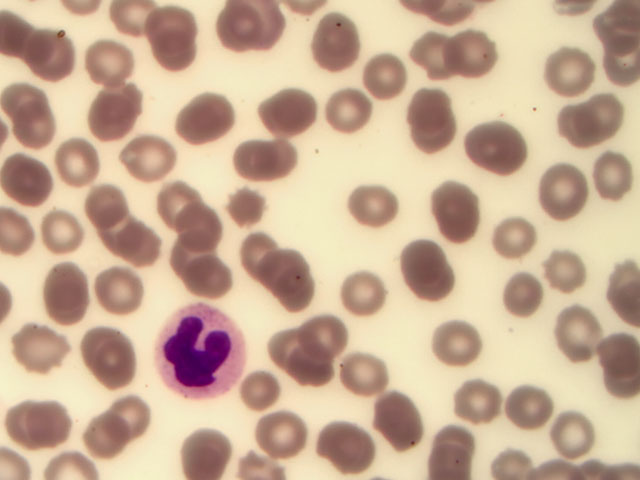RBC: (29, 27, 81, 79), (79, 30, 131, 82), (95, 97, 147, 149), (49, 127, 101, 179), (11, 104, 63, 156), (7, 75, 59, 127), (4, 154, 56, 206), (72, 170, 124, 222), (91, 203, 143, 255), (114, 219, 166, 271), (35, 206, 87, 258), (33, 268, 85, 320), (94, 263, 146, 315), (188, 256, 240, 308), (164, 239, 216, 291), (183, 209, 235, 261), (160, 177, 212, 229), (188, 99, 240, 151), (229, 130, 281, 182), (251, 130, 303, 182), (266, 80, 318, 132), (154, 35, 206, 87), (212, 6, 264, 58), (312, 20, 364, 72), (330, 86, 382, 138), (350, 49, 402, 101), (397, 74, 449, 126), (412, 105, 464, 157), (471, 121, 523, 173), (414, 33, 466, 85), (448, 27, 500, 79), (431, 175, 483, 227), (350, 183, 402, 235), (397, 225, 449, 277), (404, 253, 456, 305), (342, 271, 394, 323), (270, 273, 322, 325), (261, 242, 313, 294), (231, 231, 283, 283), (230, 178, 282, 230), (260, 321, 312, 373), (279, 344, 331, 396), (291, 303, 343, 355), (335, 346, 387, 398), (371, 390, 423, 442), (323, 418, 375, 470), (256, 409, 308, 461), (240, 367, 292, 419), (174, 425, 226, 477), (106, 391, 158, 443), (80, 411, 132, 463), (93, 340, 145, 392), (80, 313, 132, 365), (8, 322, 60, 374), (33, 394, 85, 446), (6, 398, 58, 450), (422, 428, 474, 480), (456, 374, 508, 426), (498, 383, 550, 435), (541, 399, 593, 451), (431, 319, 483, 371), (494, 275, 546, 327), (528, 249, 580, 301), (494, 212, 546, 264), (532, 165, 584, 217), (581, 144, 633, 196), (549, 101, 601, 153), (580, 88, 632, 140), (543, 48, 595, 100), (545, 305, 597, 357), (588, 335, 640, 387), (150, 1, 202, 52)
WBC: (153, 306, 250, 400)
